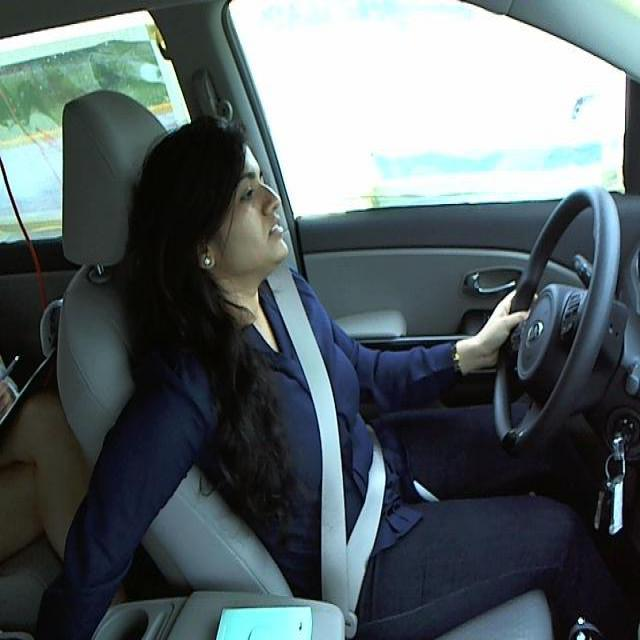seatbelt: (259, 285, 386, 615)
